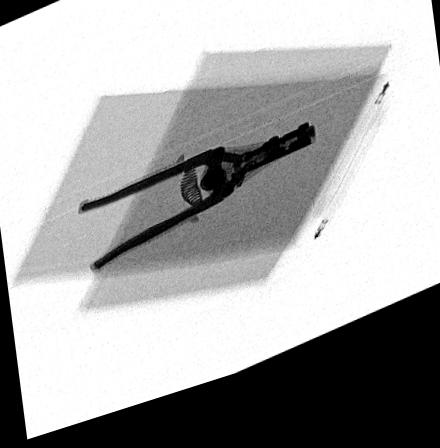Pliers: (75, 139, 317, 276)
